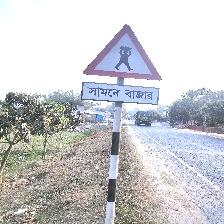Market-in-front: (82, 24, 162, 105)
